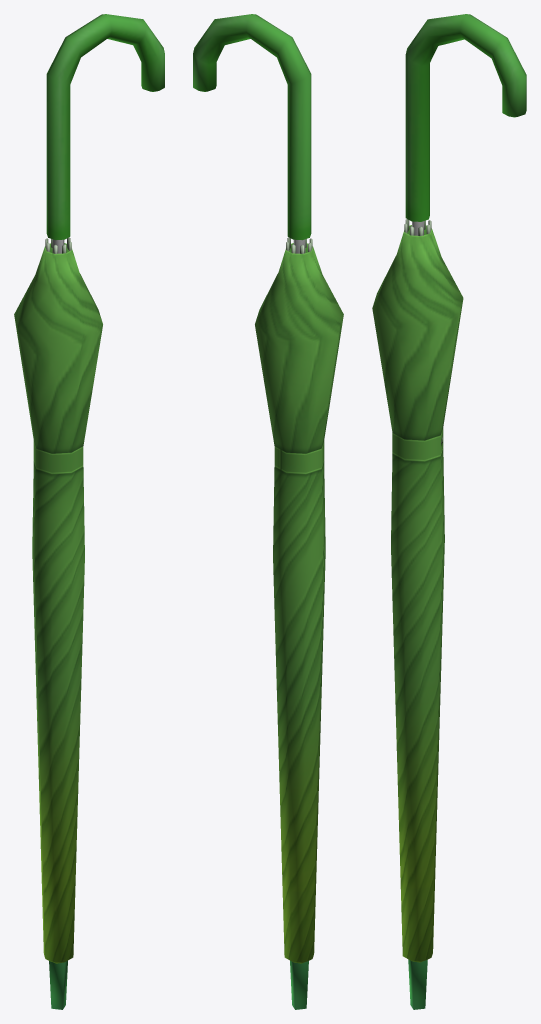
The model's file is set_umbrella_01.fbx.
3 views of the same model, side by side, from view 1: azimuth 30°, elevation 25°; view 2: azimuth 150°, elevation 25°; view 3: azimuth 330°, elevation 25° (orthographic). The views are drawn at different scales.
Visible parts, largest first — view 1: set_umbrella_01; view 2: set_umbrella_01; view 3: set_umbrella_01.
Boxes of the visible parts, x1,y1,x2,y2 form: set_umbrella_01: (14, 14, 164, 1009); set_umbrella_01: (193, 14, 343, 1009); set_umbrella_01: (372, 14, 526, 1009).
Bounding box in the file's own units: 12.79 × 82.9 × 7.05.
